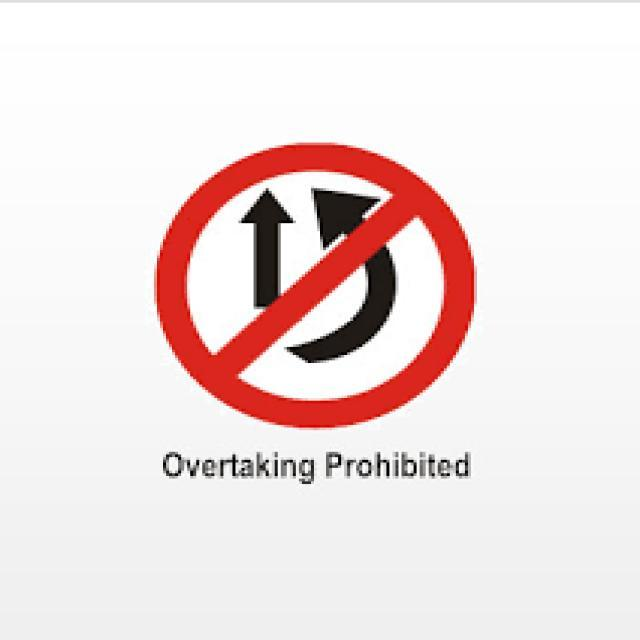overtaking prohibited: (155, 142, 480, 432)
